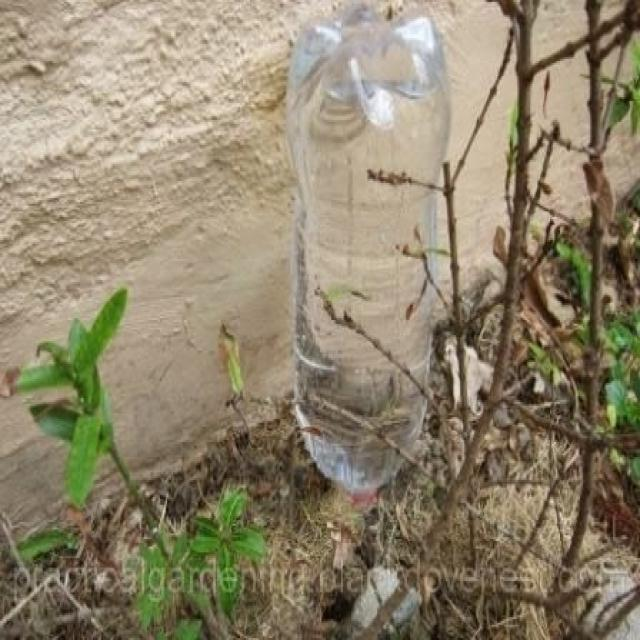plastic_bottle: (284, 1, 453, 506)
